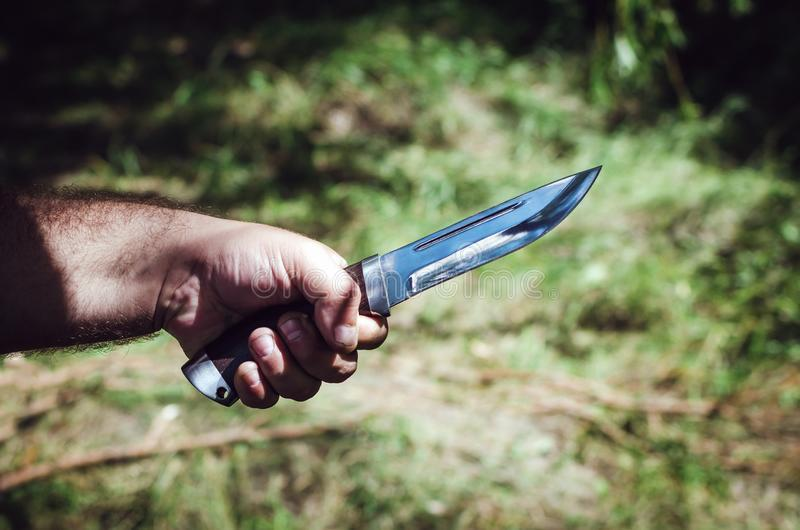weapon: (177, 162, 607, 412)
